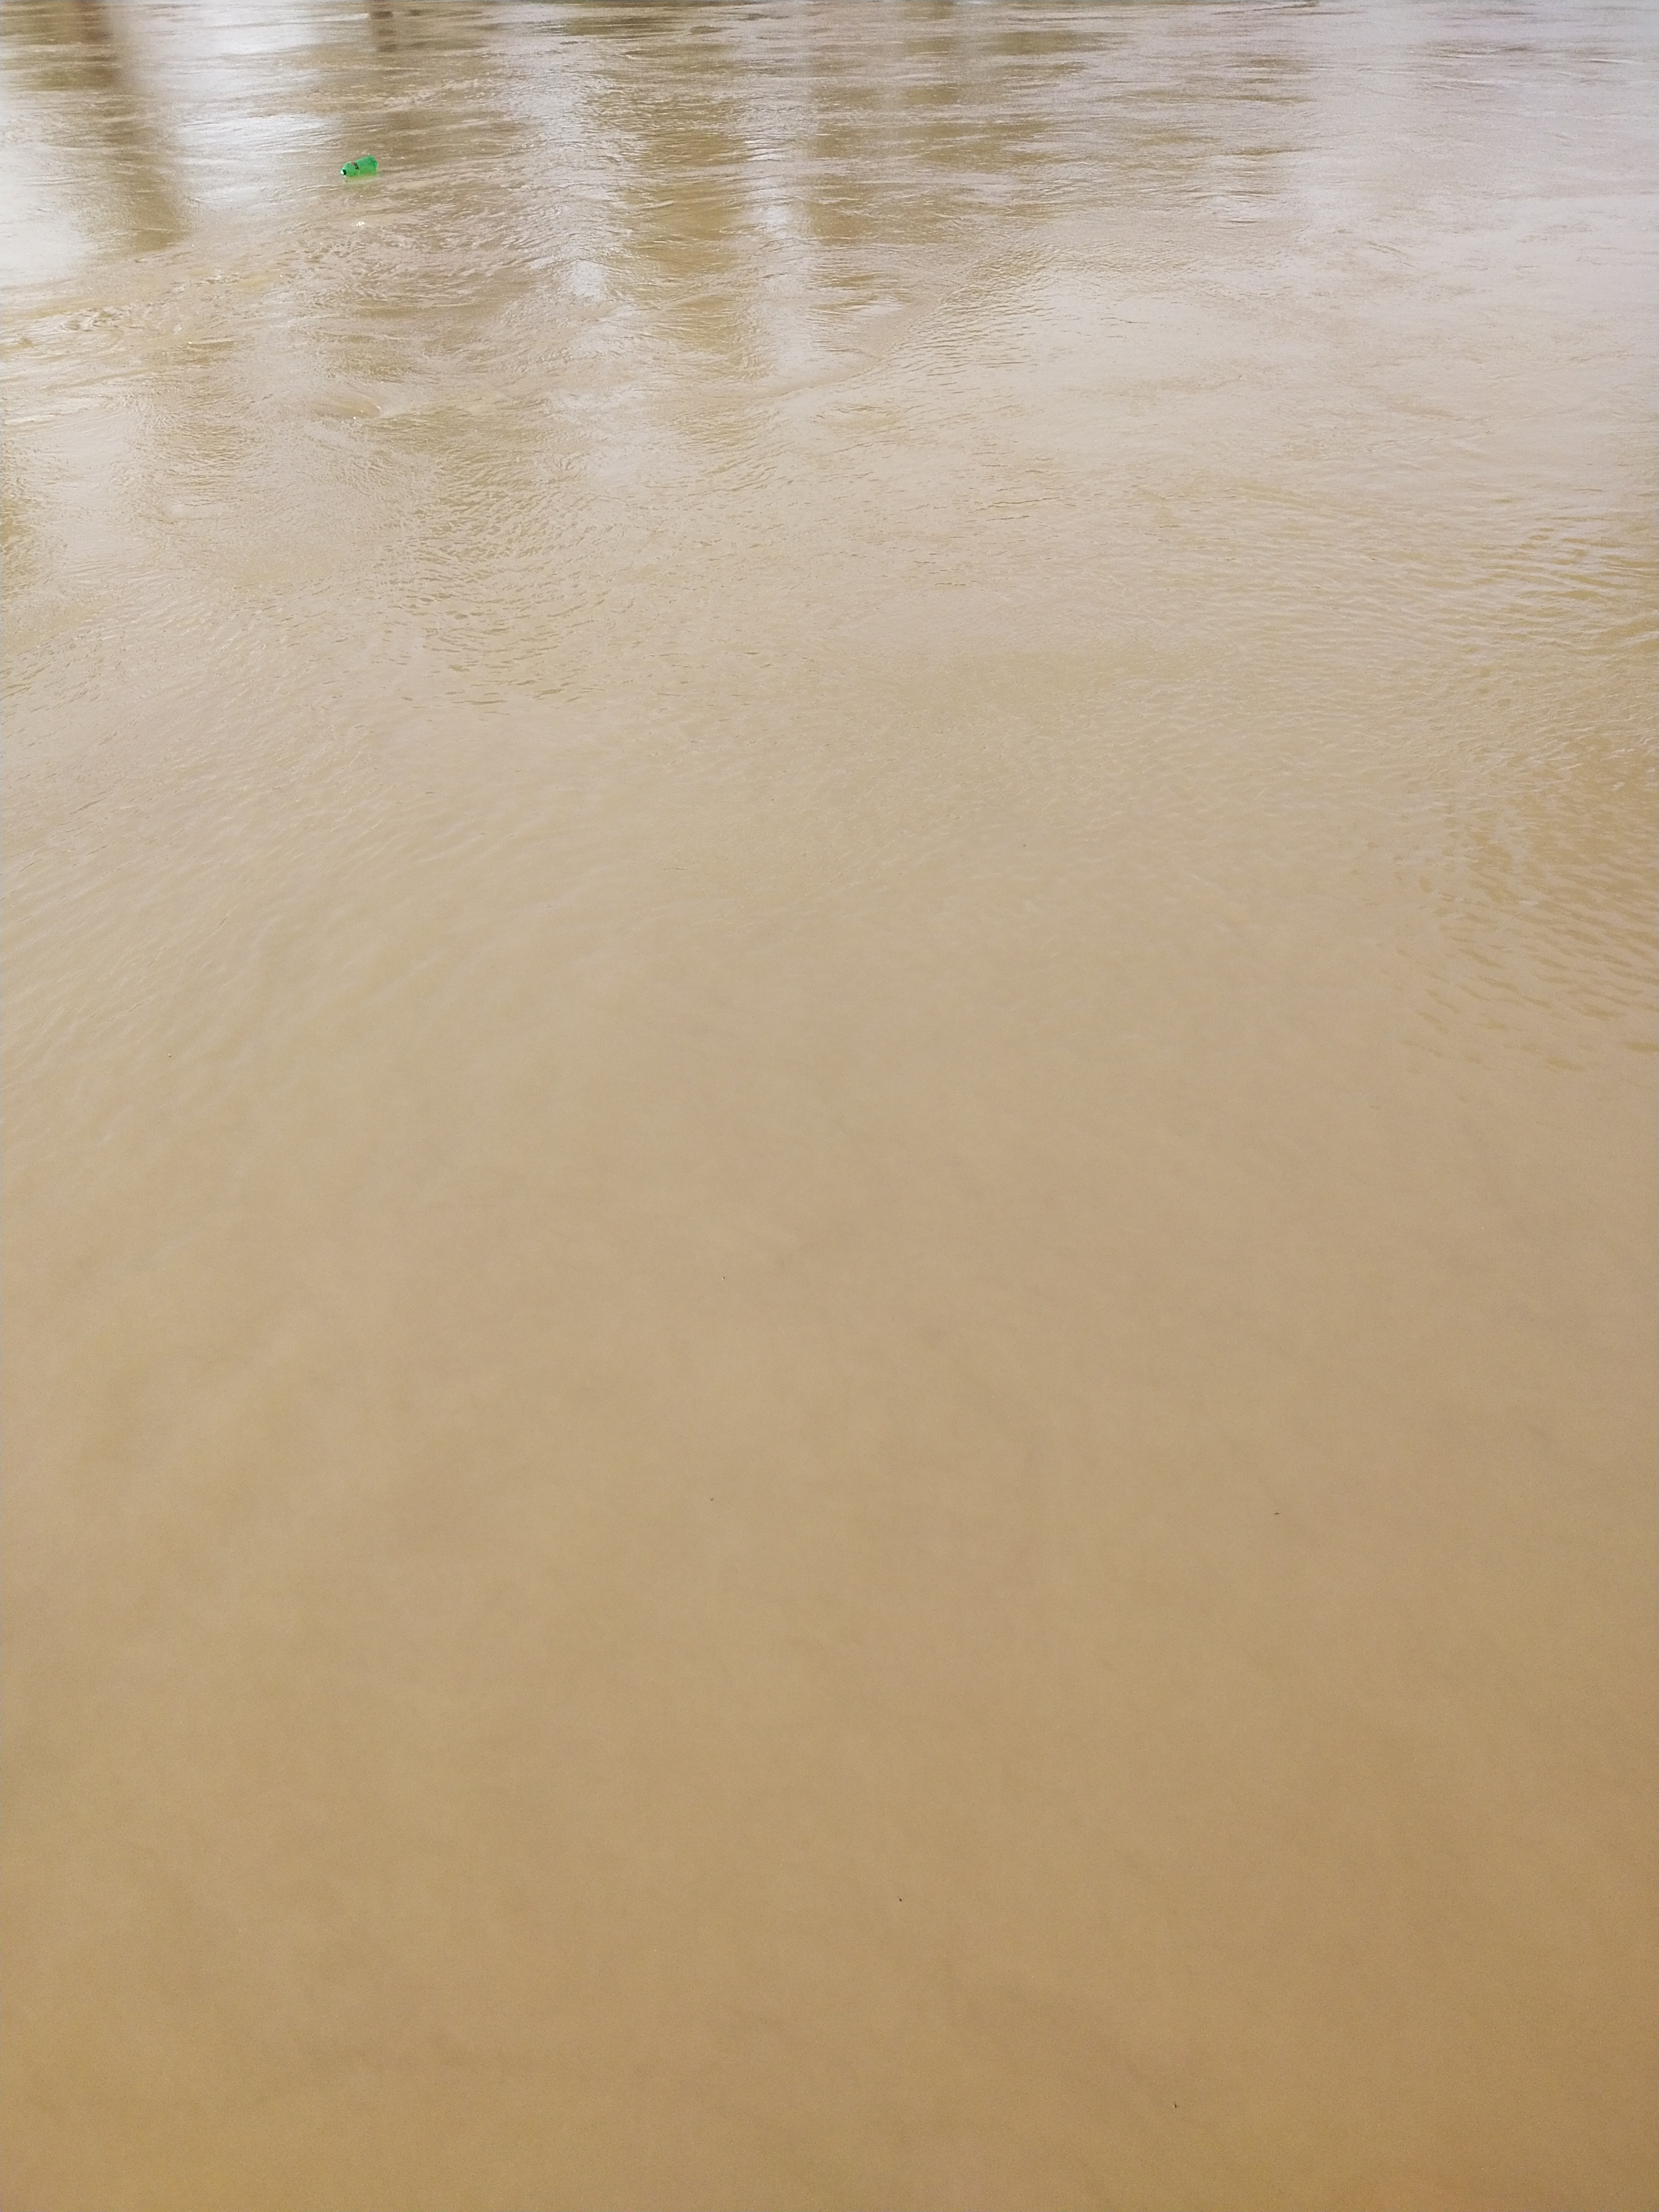Plastic Bottle: (340, 157, 376, 176)
